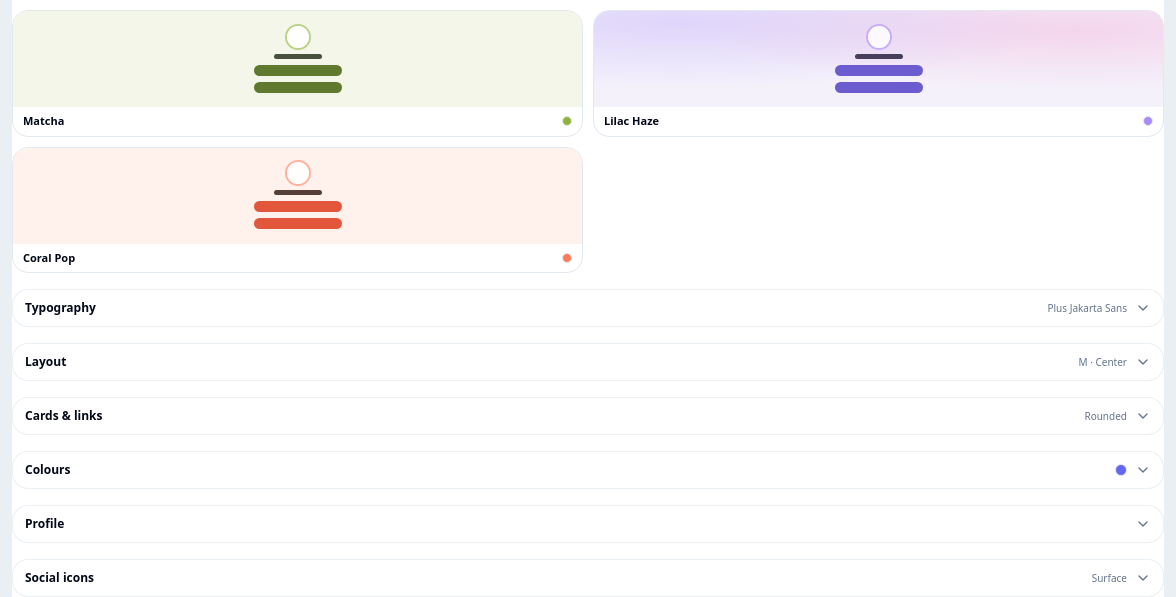
Test case: ThemePanel controls › no longer offers the duplicate "Framed avatar" header style
(page scrolled)
Click the button "Profile": click(45, 524) [13, 506, 1163, 542]
(page scrolled)
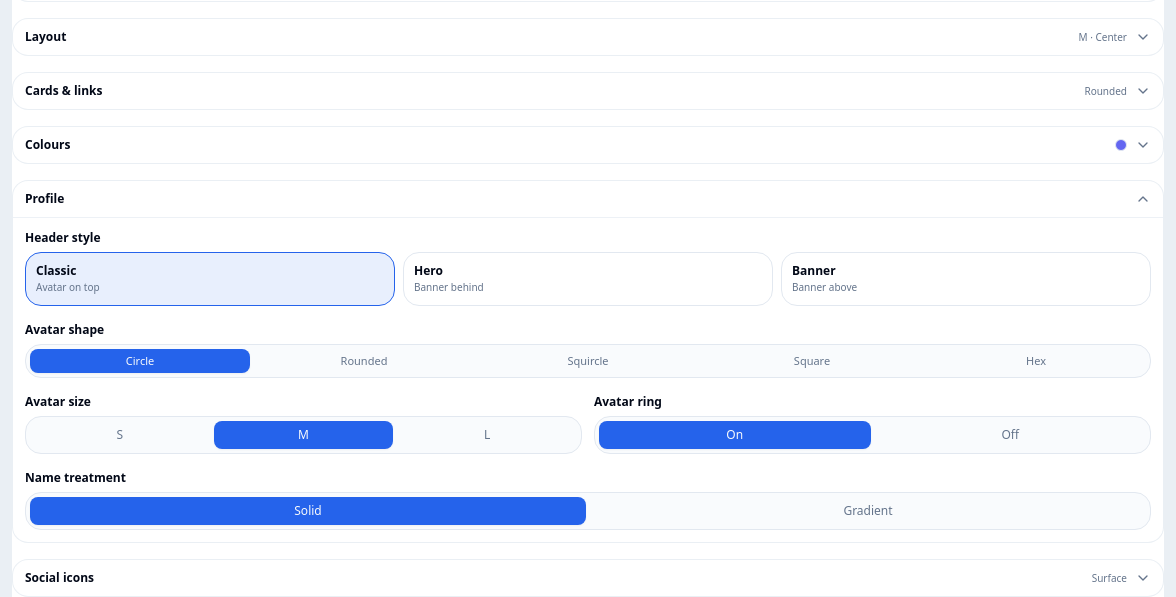
Expected: the text "Classic" is shown, [36, 262, 76, 279]
Expected: the text "Hero" is shown, [414, 262, 443, 279]
Expected: the text "Banner" is shown, [792, 262, 836, 279]
